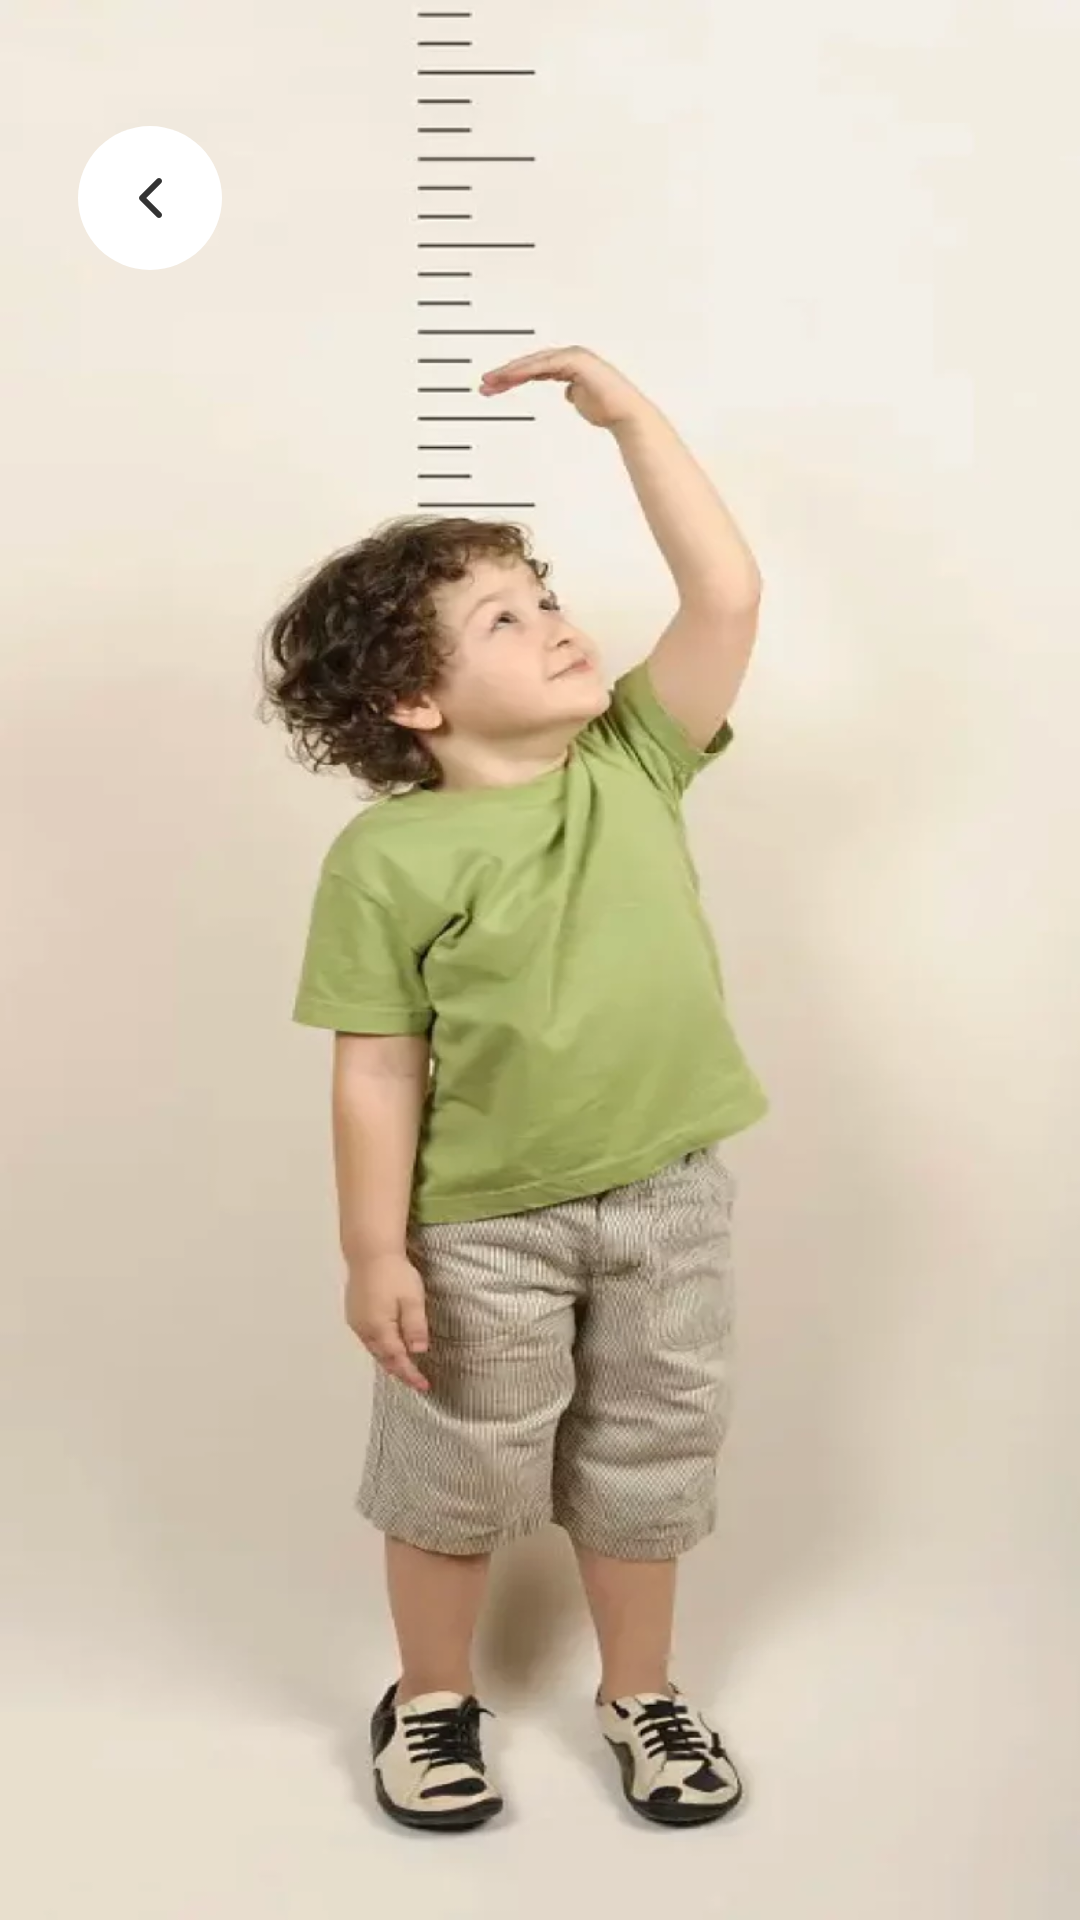

Named icons in this screenshot (1080*1920) and their bounding boxes, (x1, y1, x2, y2):
back: (139, 178, 162, 218)
